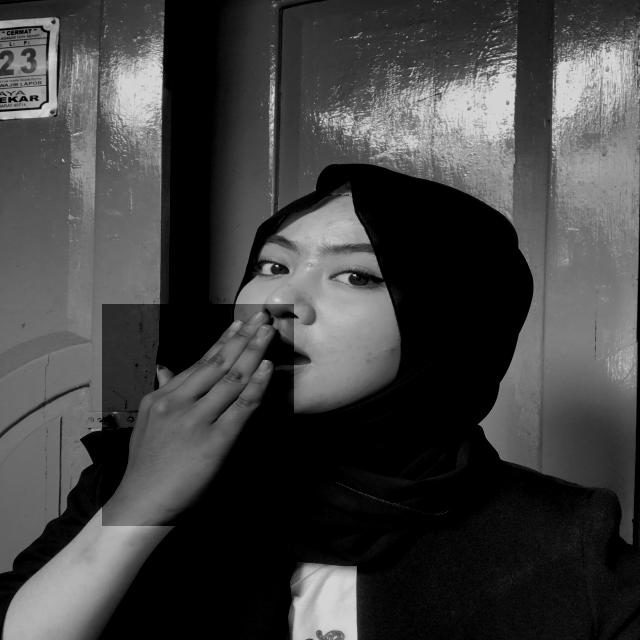ngantuk: (102, 304, 294, 526)
